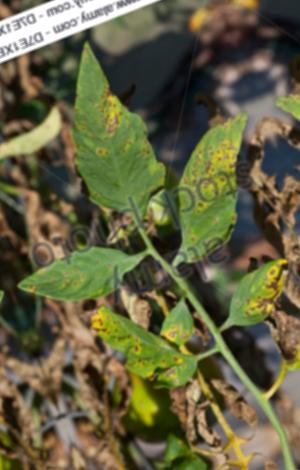Tomato Septoria leaf spot: (26, 29, 185, 245), (140, 103, 295, 272), (78, 281, 212, 420), (1, 218, 151, 336), (198, 248, 300, 342)
